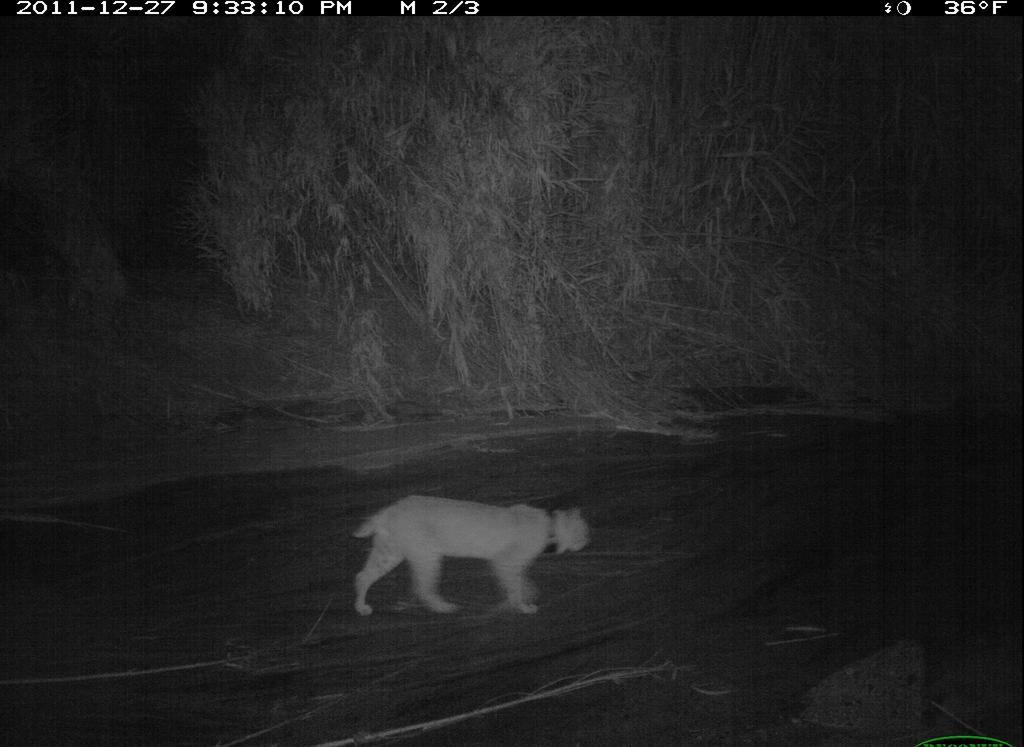bobcat: (342, 488, 603, 630)
